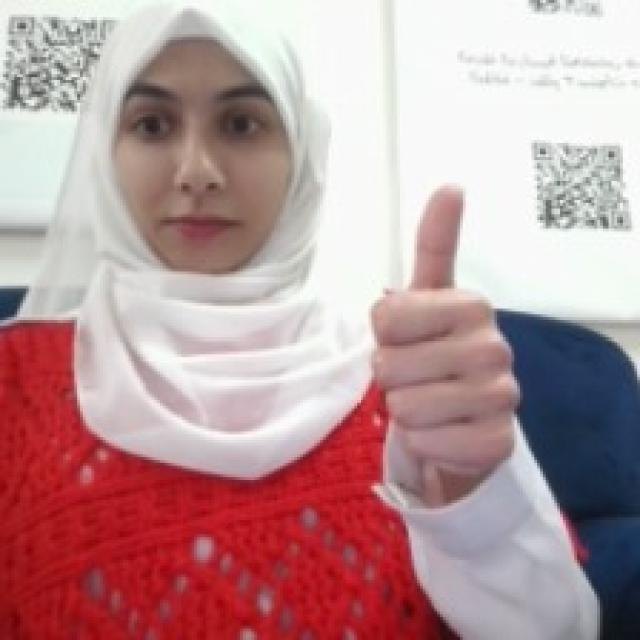fine: (357, 165, 523, 486)
